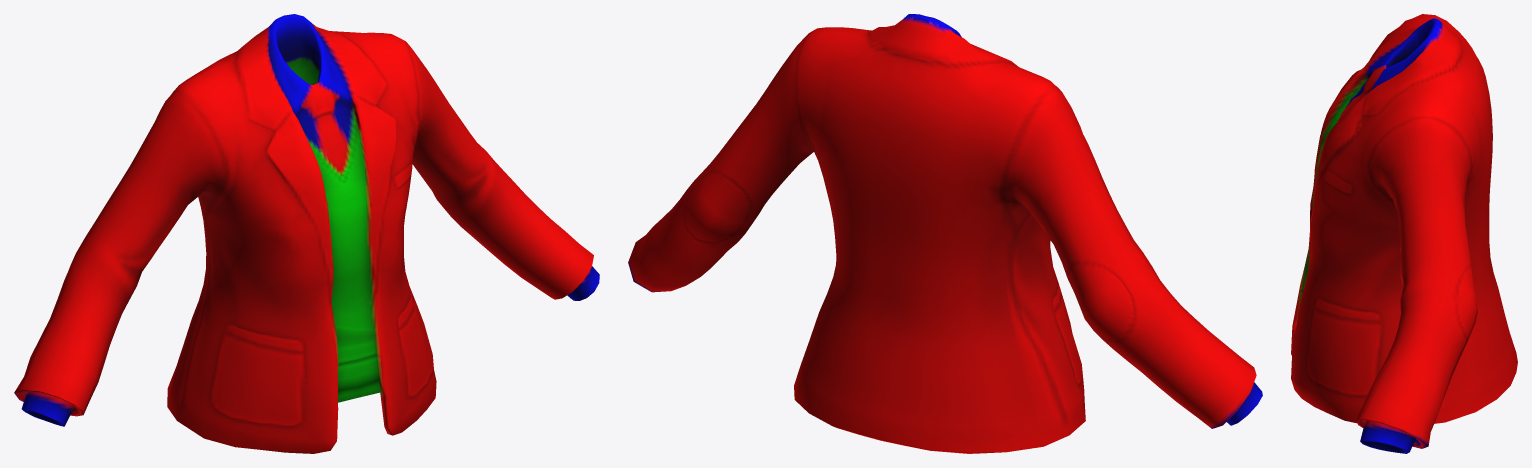
Rendered from Top_ProfessorJacket.obj.
The picture shows the model from 3 angles, left to right: view 1: azimuth 30°, elevation 25°; view 2: azimuth 150°, elevation 25°; view 3: azimuth 270°, elevation 25°; orthographic projection. The views are drawn at different scales.
Parts seen in each view (by area): view 1: Top_ProfessorJacket_0; view 2: Top_ProfessorJacket_0; view 3: Top_ProfessorJacket_0.
Boxes of the visible parts, bbox=[...] form: Top_ProfessorJacket_0: bbox=[14, 14, 599, 453]; Top_ProfessorJacket_0: bbox=[628, 14, 1262, 453]; Top_ProfessorJacket_0: bbox=[1291, 14, 1517, 453].
Bounding box in the file's own units: 0.883 × 0.5567 × 0.3216.
Materials: 1 (1 with a texture image).
